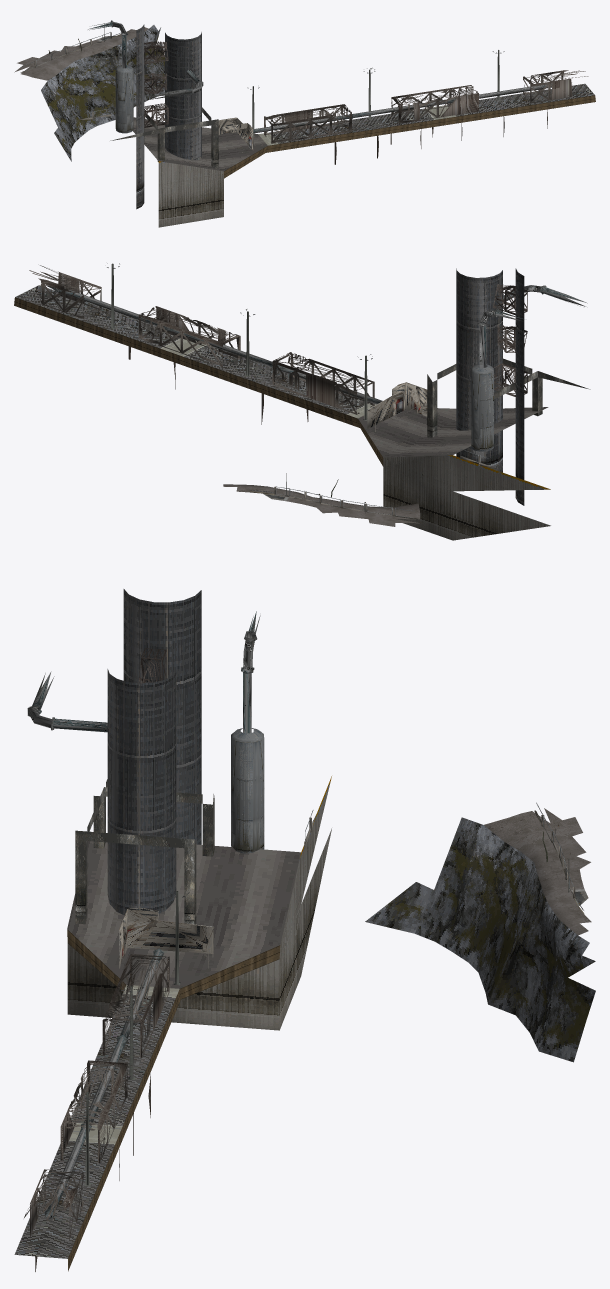
Rendered from world_camden_16_-9.gltf.
3 views of the same model, one above another, from view 1: azimuth 30°, elevation 25°; view 2: azimuth 150°, elevation 25°; view 3: azimuth 270°, elevation 25° (orthographic). The views are drawn at different scales.
Size of the model in its own units: 302 by 114 by 167.
Materials: 29 (29 with a texture image).
